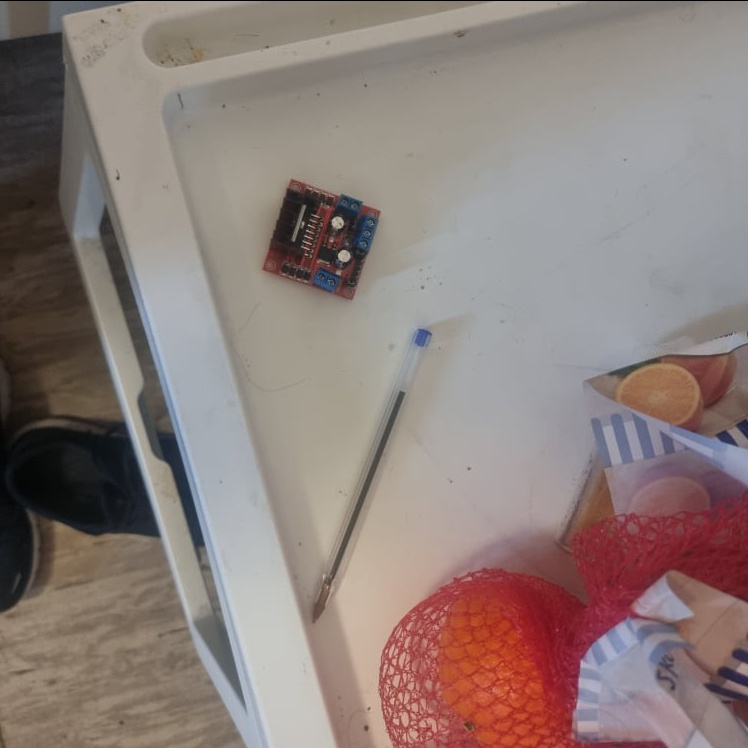MOTOR: (260, 172, 383, 301)
